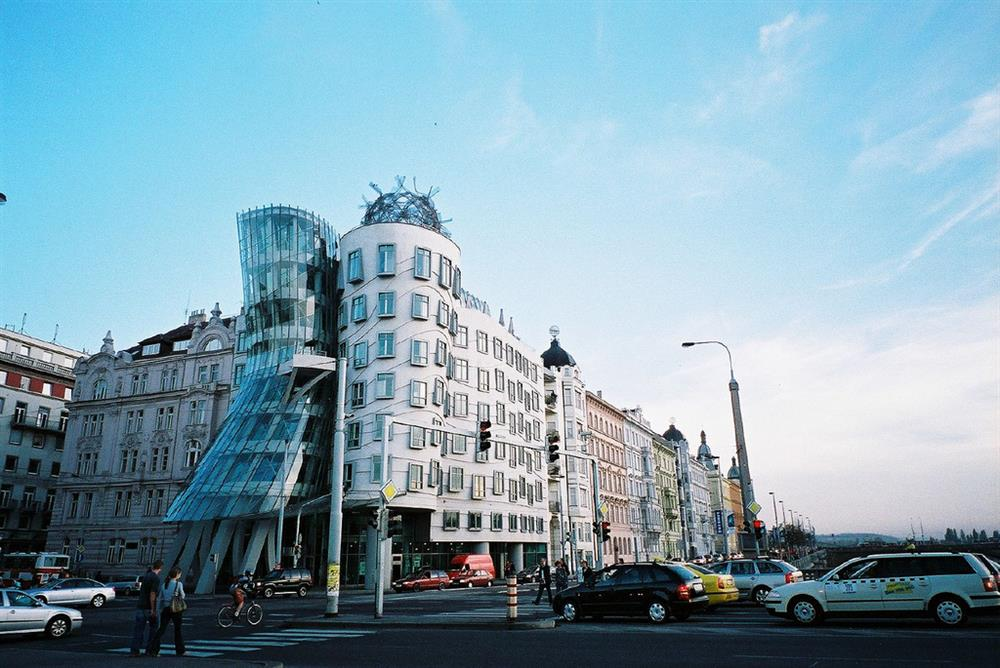dancing_house: (179, 171, 458, 600)
